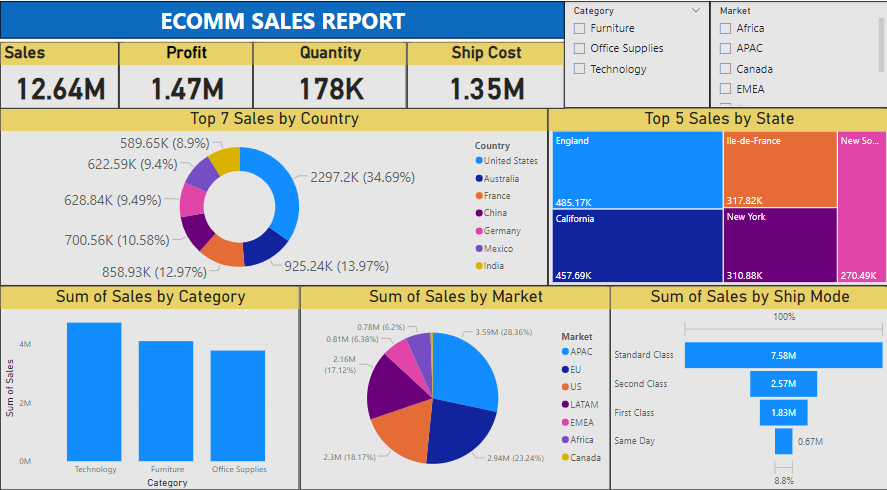

What the dashboard file says about the page in this screenshot:
{"tool":"powerbi","page":{"name":"Sales Report","canvas":[1280,720],"ordinal":0},"visuals":[{"type":"columnChart","fields":{"Category":["Orders.Category"],"Y":["Sum(Orders.Sales)"]},"box":[0,410,431.4,294.3],"z":0},{"type":"pieChart","fields":{"Category":["Orders.Market"],"Y":["Sum(Orders.Sales)"]},"box":[431.4,410,447.1,294.3],"z":1000},{"type":"funnel","fields":{"Category":["Orders.Ship Mode"],"Y":["Sum(Orders.Sales)"]},"box":[878.6,410,401.4,294.3],"z":2000},{"type":"donutChart","title":"Top 7 Sales by Country","fields":{"Y":["Sum(Orders.Sales)"],"Category":["Orders.Country"]},"box":[0,154.3,788.6,255.7],"z":3000},{"type":"treemap","title":"Top 5 Sales by State","fields":{"Group":["Orders.State"],"Values":["Sum(Orders.Sales)"]},"box":[788.6,154.3,491.4,255.7],"z":4000},{"type":"card","title":"Sales","fields":{"Values":["Sum(Orders.Sales)"]},"box":[0,58.6,171.4,95.7],"z":5000},{"type":"card","title":"Profit","fields":{"Values":["Sum(Orders.Profit)"]},"box":[171.4,58.6,192.9,95.7],"z":6000},{"type":"card","title":"Quantity","fields":{"Values":["Sum(Orders.Quantity)"]},"box":[364.3,58.6,221.4,95.7],"z":7000},{"type":"card","title":"Ship Cost","fields":{"Values":["Sum(Orders.Shipping Cost)"]},"box":[585.7,58.6,227.1,95.7],"z":8000},{"type":"slicer","fields":{"Values":["Orders.Category"]},"box":[812.9,0,210,154.3],"z":9000},{"type":"slicer","fields":{"Values":["Orders.Market"]},"box":[1022.9,0,257.1,154.3],"z":10000},{"type":"textbox","box":[0,0,812.9,54.3],"z":11000}]}

Visuals, with their boxes in screenshot pixels (x1, y1, x2, y2), scaled from the page's 1280x720 canvas onto the 887x490 screenshot:
columnChart - Orders.Category x Sum(Orders.Sales): bbox=(0, 279, 299, 479)
pieChart - Orders.Market x Sum(Orders.Sales): bbox=(299, 279, 609, 479)
funnel - Orders.Ship Mode x Sum(Orders.Sales): bbox=(609, 279, 886, 479)
"Top 7 Sales by Country" donutChart: bbox=(0, 105, 546, 279)
"Top 5 Sales by State" treemap: bbox=(546, 105, 886, 279)
"Sales" card: bbox=(0, 40, 119, 105)
"Profit" card: bbox=(119, 40, 252, 105)
"Quantity" card: bbox=(252, 40, 406, 105)
"Ship Cost" card: bbox=(406, 40, 563, 105)
slicer - Orders.Category: bbox=(563, 0, 709, 105)
slicer - Orders.Market: bbox=(709, 0, 886, 105)
textbox: bbox=(0, 0, 563, 37)
